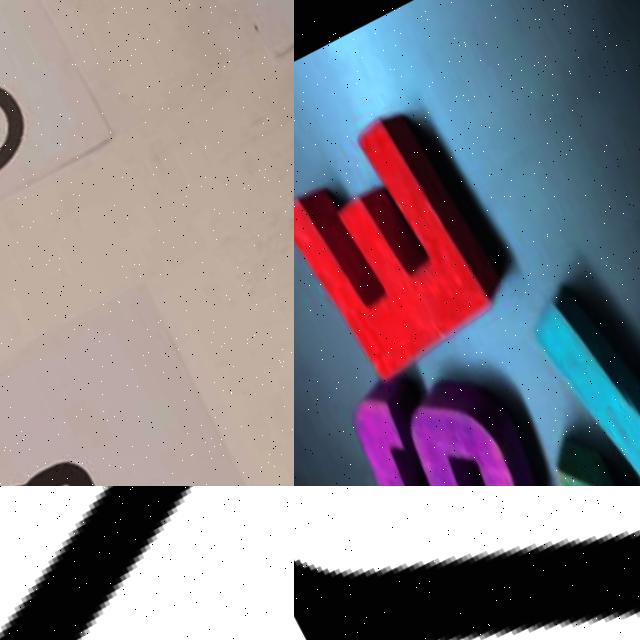0: (0, 40, 63, 234)
8: (0, 421, 137, 486)
E: (294, 78, 558, 399)
L: (294, 486, 640, 640)
S: (305, 292, 609, 486)
Y: (0, 486, 294, 640)
